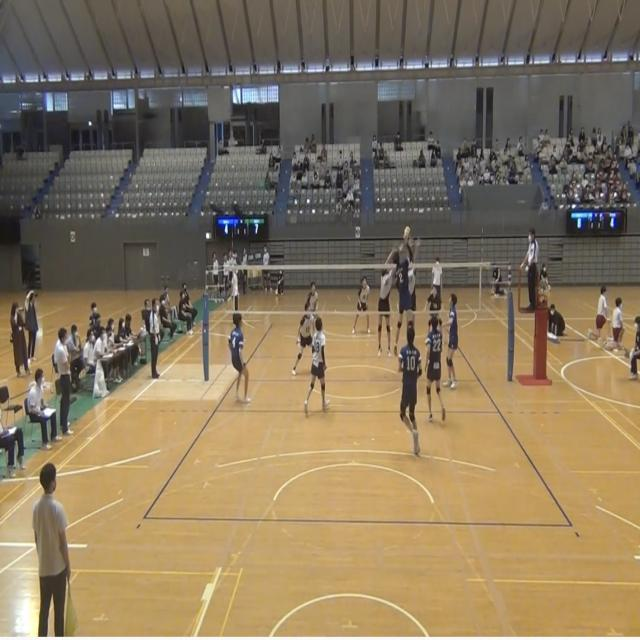spike: (391, 223, 422, 368)
